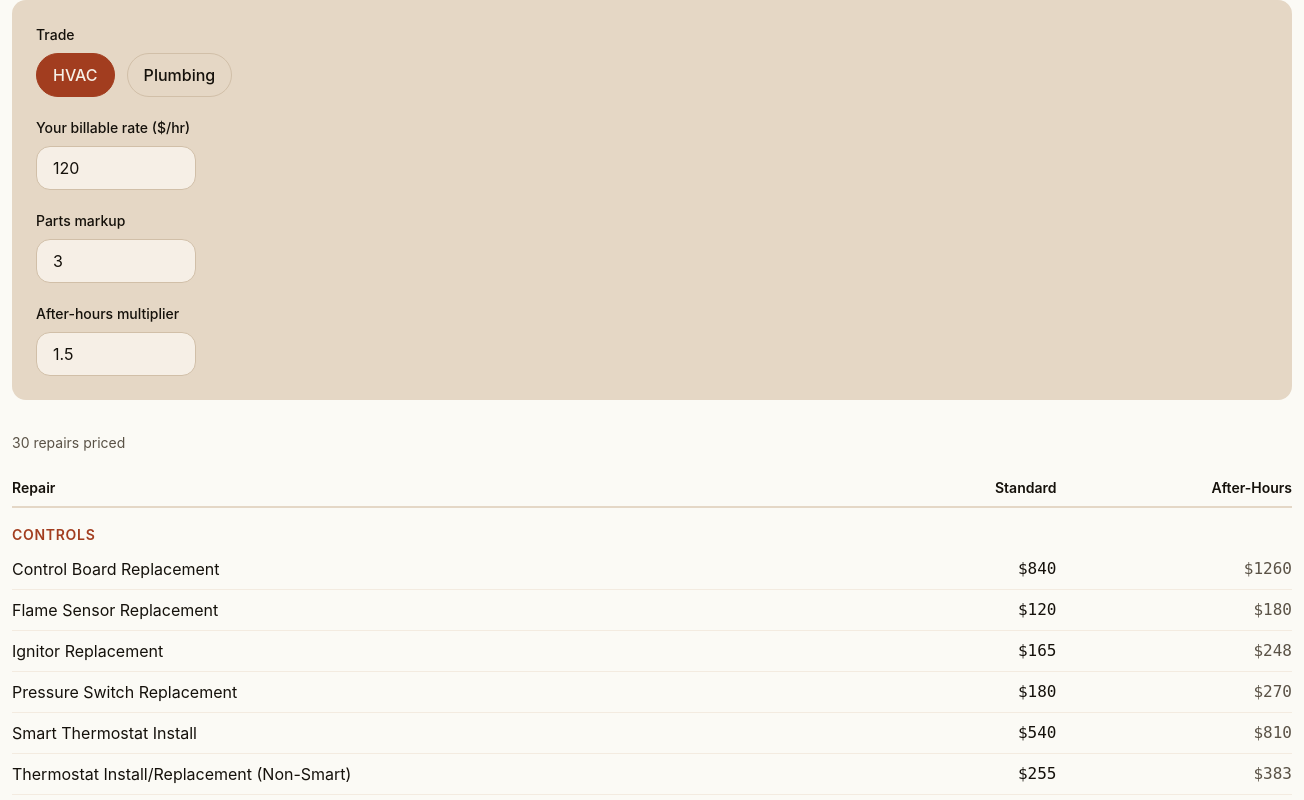
PricebookBuilder › trade selector › shows HVAC categories after switching back from Plumbing
Click the button "Plumbing" at (179, 75), box [127,53,232,97]
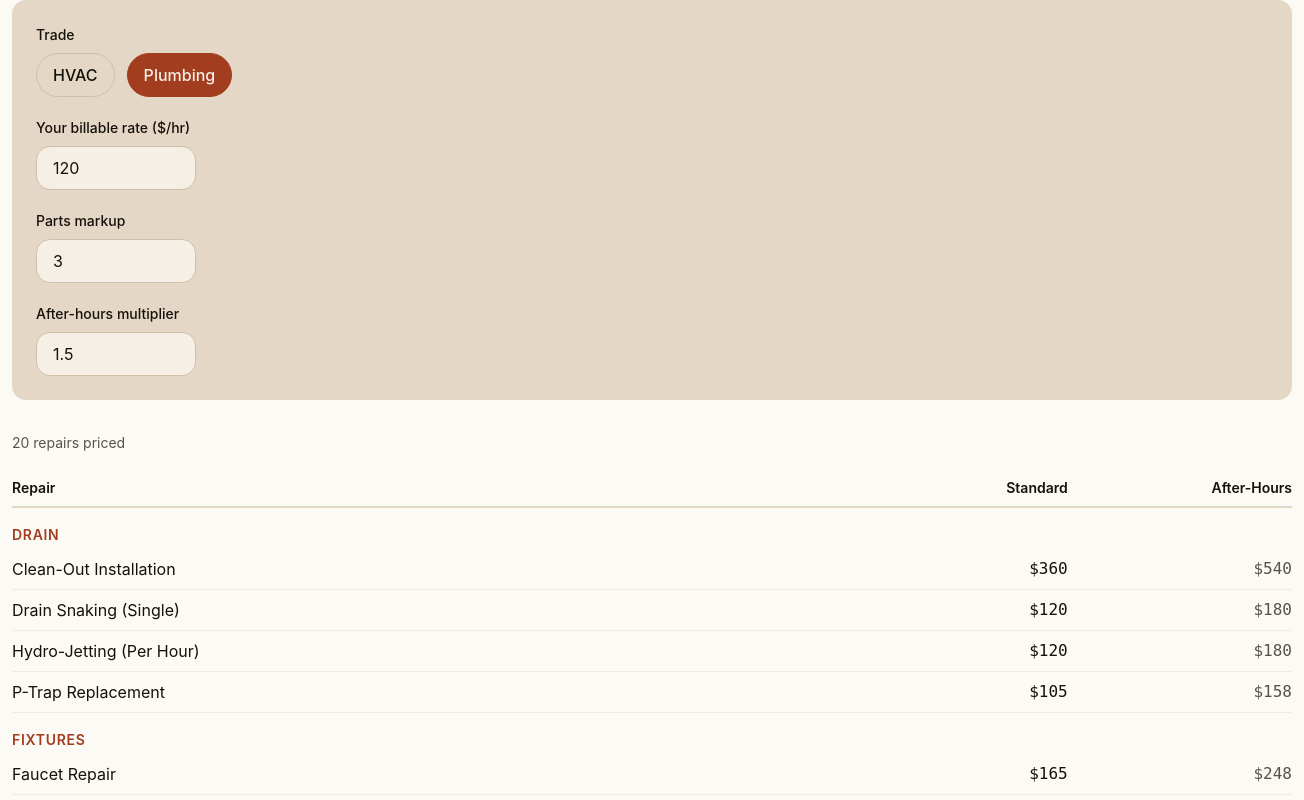
Click the button "HVAC" at (75, 75), box [36,53,115,97]
(page scrolled)
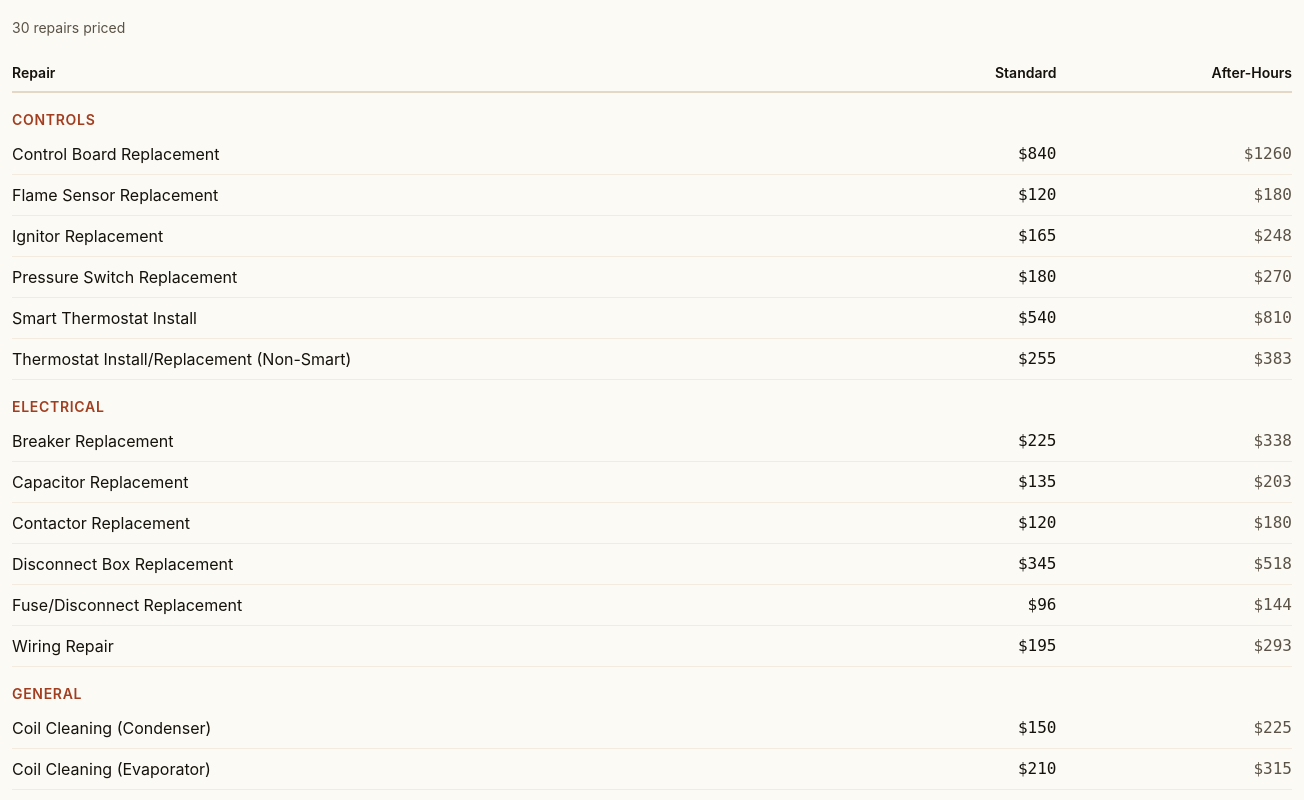
Expected: the text "Electrical" is shown, [12,380,1292,421]
